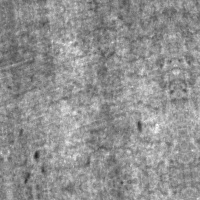crazing: (51, 131, 175, 187)
